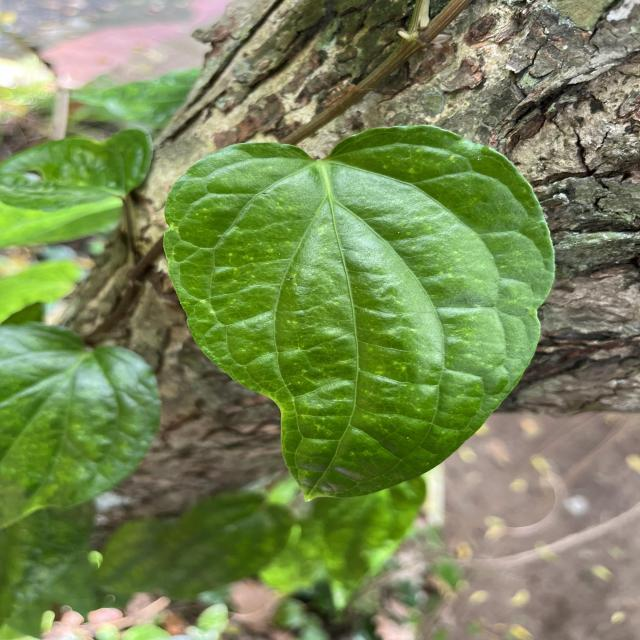Piper betle: (158, 121, 560, 506)
